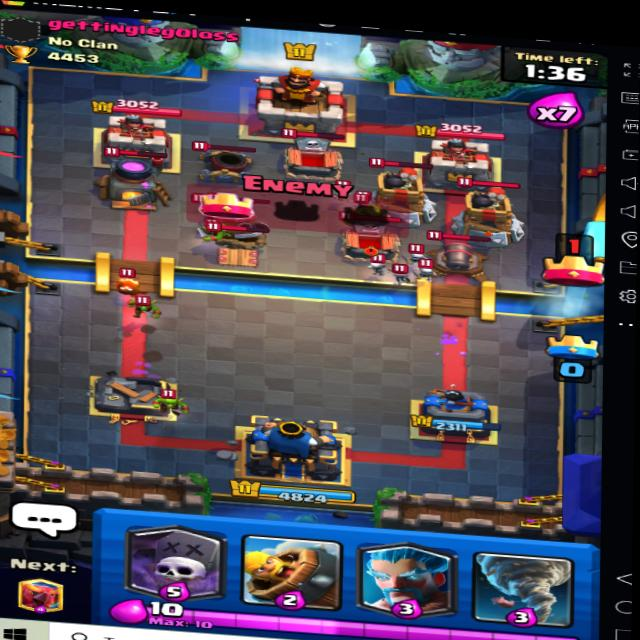bomb-tower: (366, 157, 438, 229), (455, 176, 530, 245)
cannon: (420, 228, 504, 283)
fire-spirit: (112, 271, 148, 298)
furnace: (94, 142, 173, 211)
goblin: (151, 381, 190, 418), (196, 214, 234, 245), (130, 286, 159, 318)
goblin-drill: (200, 187, 280, 252)
mortar: (187, 136, 261, 191)
skeleton: (380, 260, 416, 289), (410, 252, 442, 282), (364, 251, 392, 277), (400, 241, 428, 265)
tesla-closed: (193, 218, 278, 274)
tombstone: (333, 206, 402, 270), (273, 125, 347, 182)
